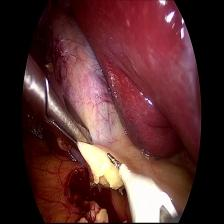Grasper: (20, 52, 94, 152)
Hook: (106, 147, 179, 224)
